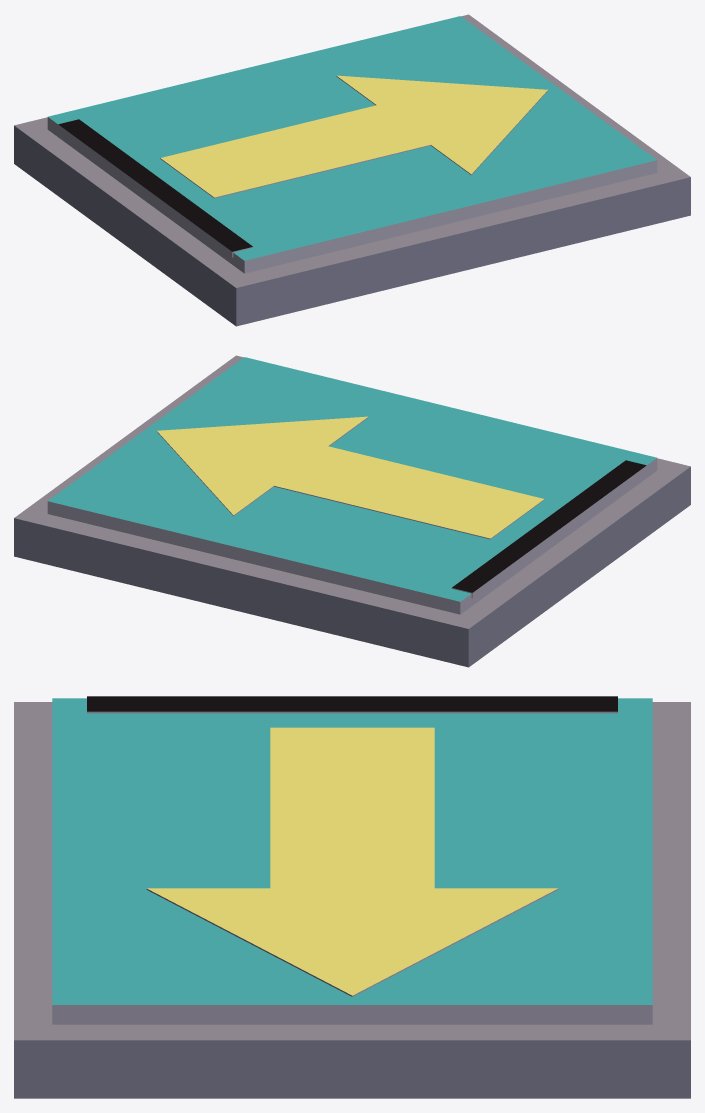
Rendered from star_garden_oneway_platform.obj.
The picture shows the model from 3 angles, top to bottom: view 1: azimuth 30°, elevation 25°; view 2: azimuth 150°, elevation 25°; view 3: azimuth 270°, elevation 25°; orthographic projection. The views are drawn at different scales.
Parts seen in each view (by area): view 1: star_garden_oneway_platform; view 2: star_garden_oneway_platform; view 3: star_garden_oneway_platform.
Boxes of the visible parts, x1=… form: star_garden_oneway_platform: x1=14, y1=14, x2=690, y2=326; star_garden_oneway_platform: x1=14, y1=355, x2=690, y2=667; star_garden_oneway_platform: x1=14, y1=696, x2=690, y2=1098.
Bounding box in the file's own units: 10.4 × 1.14 × 8.8.
